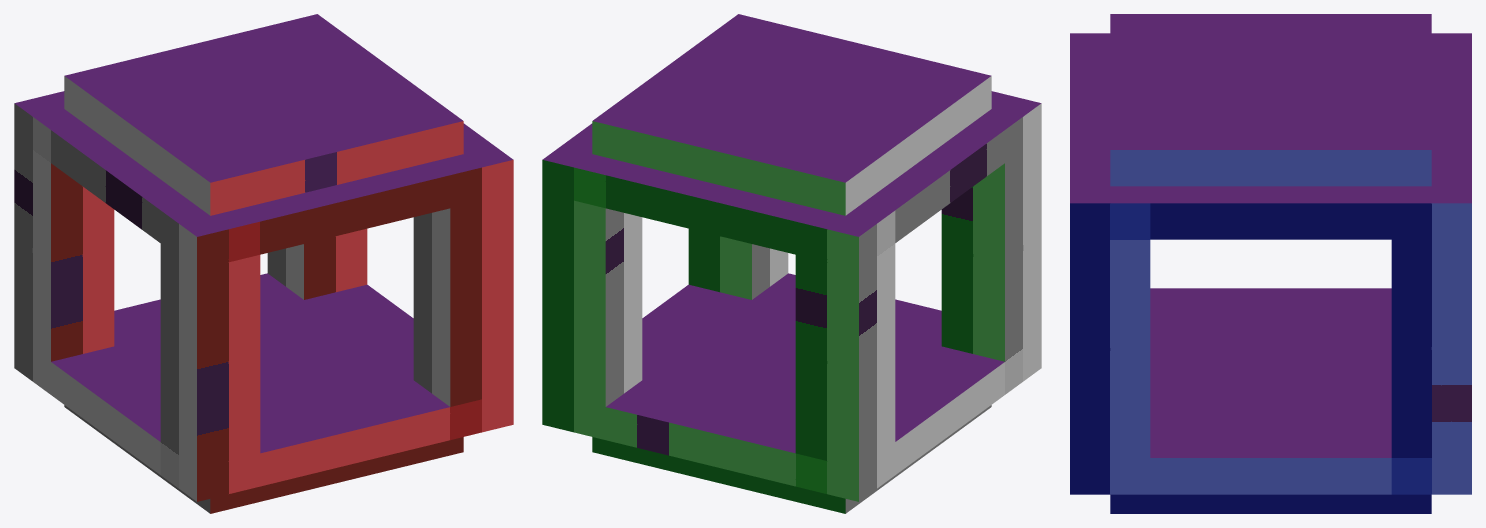
The model's file is clock_cubeao.fezao.glb.
3 views of the same model, side by side, from view 1: azimuth 30°, elevation 25°; view 2: azimuth 150°, elevation 25°; view 3: azimuth 270°, elevation 25° (orthographic). The views are drawn at different scales.
Parts seen in each view (by area): view 1: CLOCK_CUBEAO; view 2: CLOCK_CUBEAO; view 3: CLOCK_CUBEAO.
Boxes of the visible parts, bbox=[...] form: CLOCK_CUBEAO: bbox=[14, 14, 513, 513]; CLOCK_CUBEAO: bbox=[542, 14, 1041, 513]; CLOCK_CUBEAO: bbox=[1070, 14, 1471, 513].
Bounding box in the file's own units: 0.625 × 0.625 × 0.625.
1 material, 1 textured.
